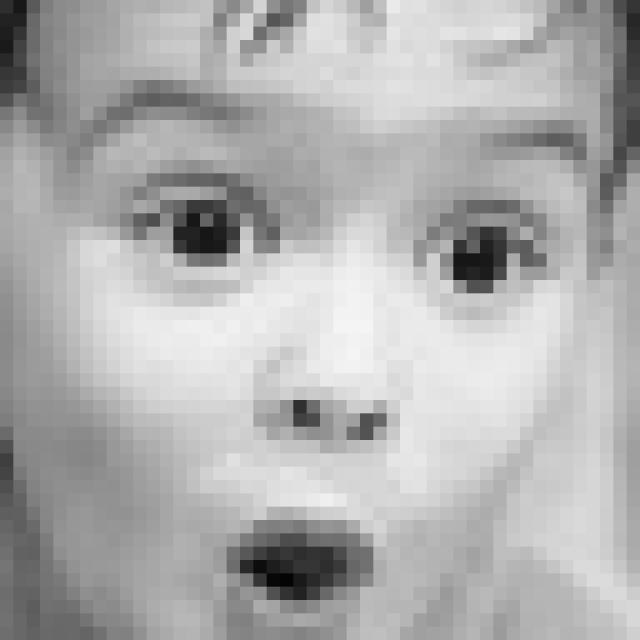surprise: (69, 81, 594, 640)
